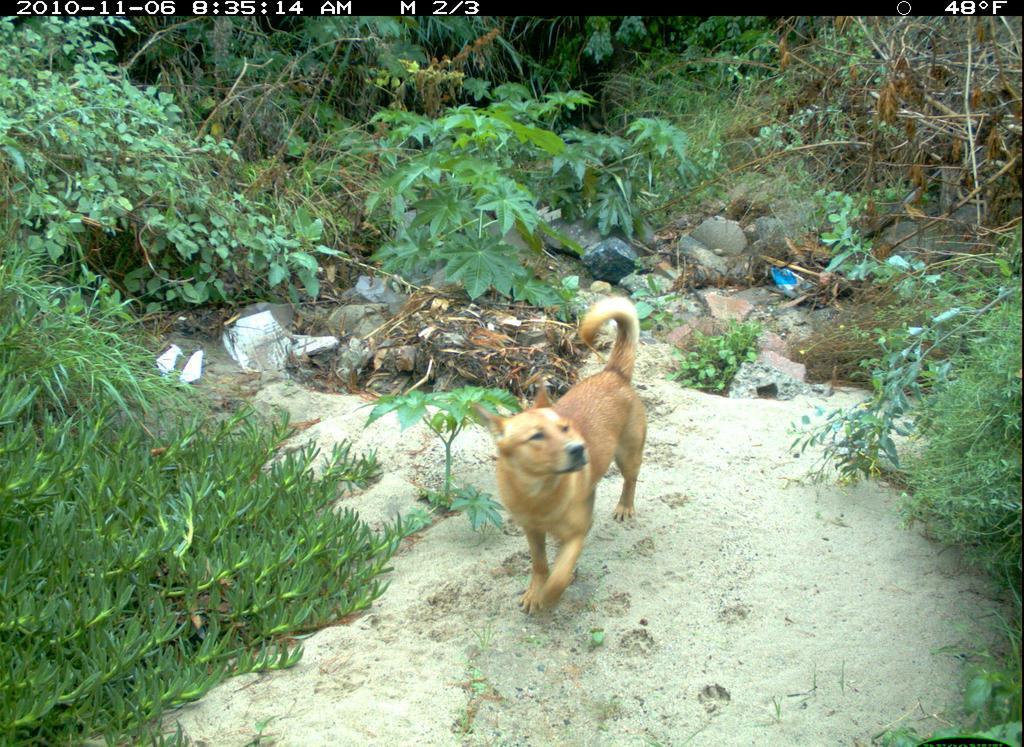dog: (474, 286, 653, 628)
